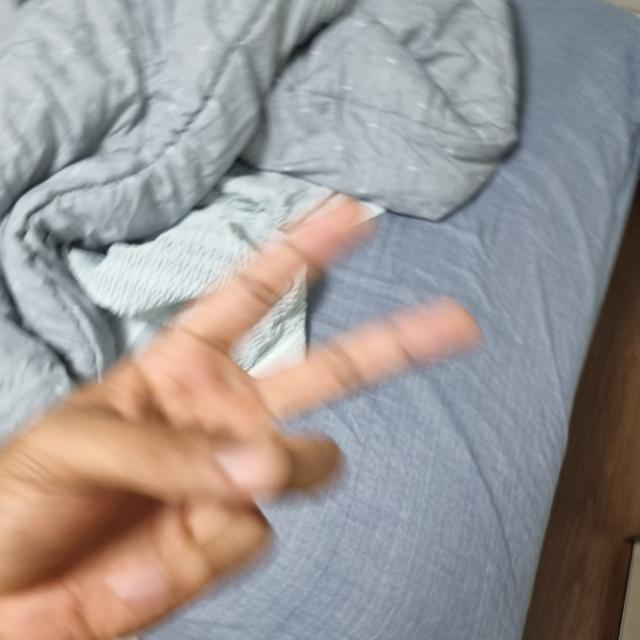Scissors: (0, 200, 473, 638)
